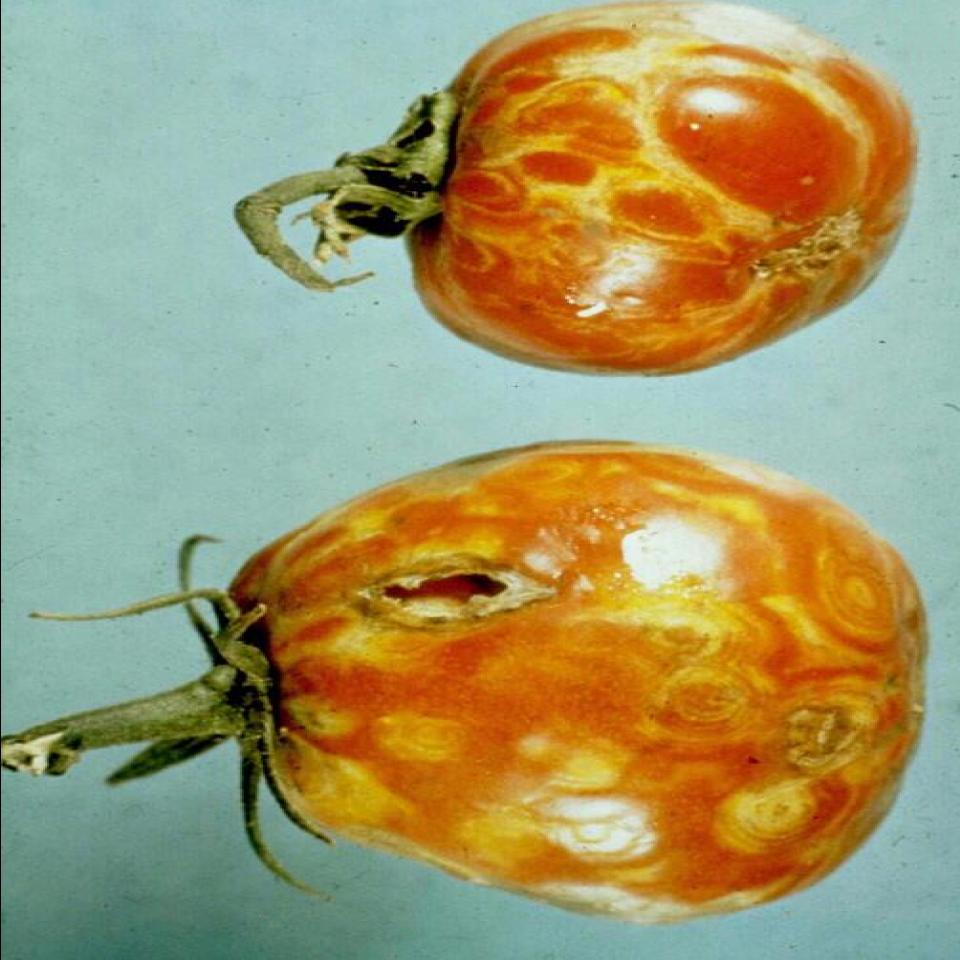Spotted wilt Virus: (226, 441, 927, 927), (409, 1, 918, 376)
